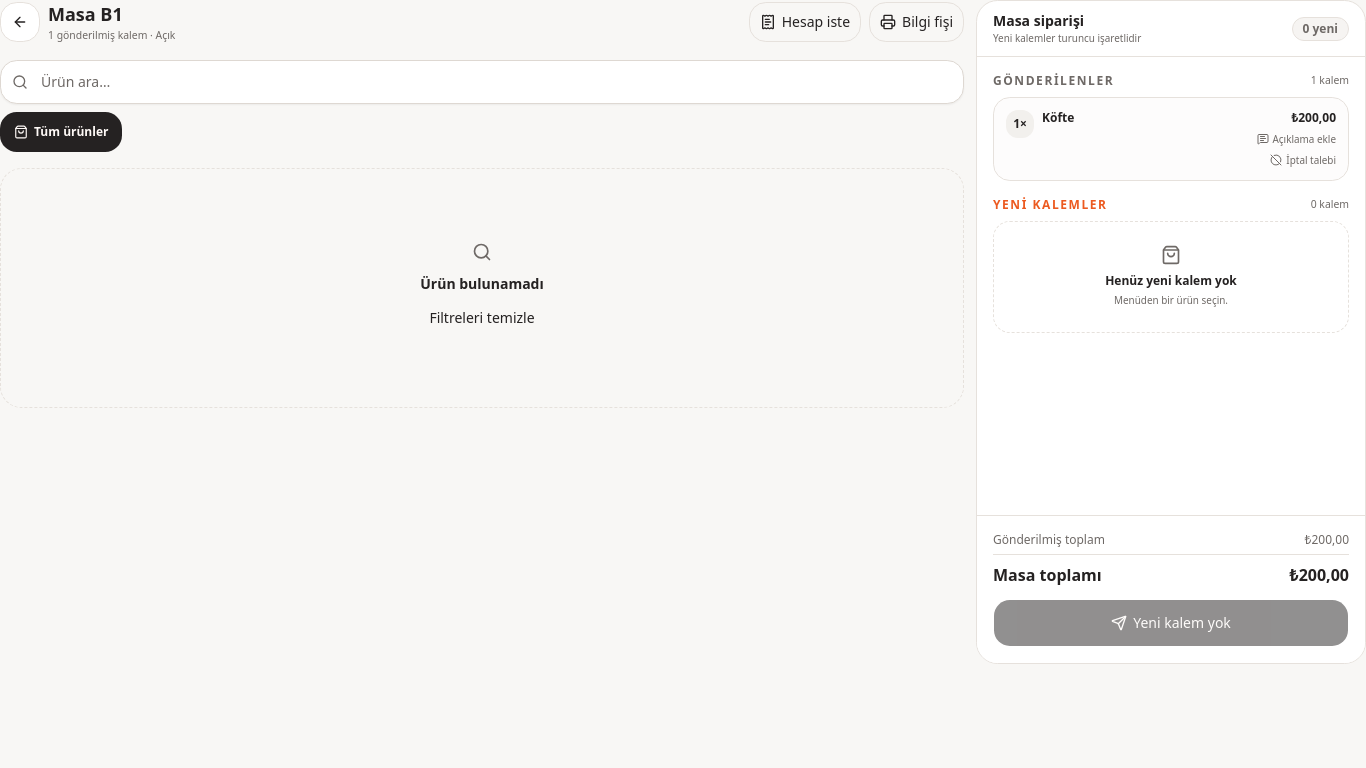
Scenario: OrderBuilder › saves a note on a previously submitted item through the waiter note endpoint
Click the button "Açıklama ekle". click: (1296, 139)
box: [1256, 132, 1336, 147]
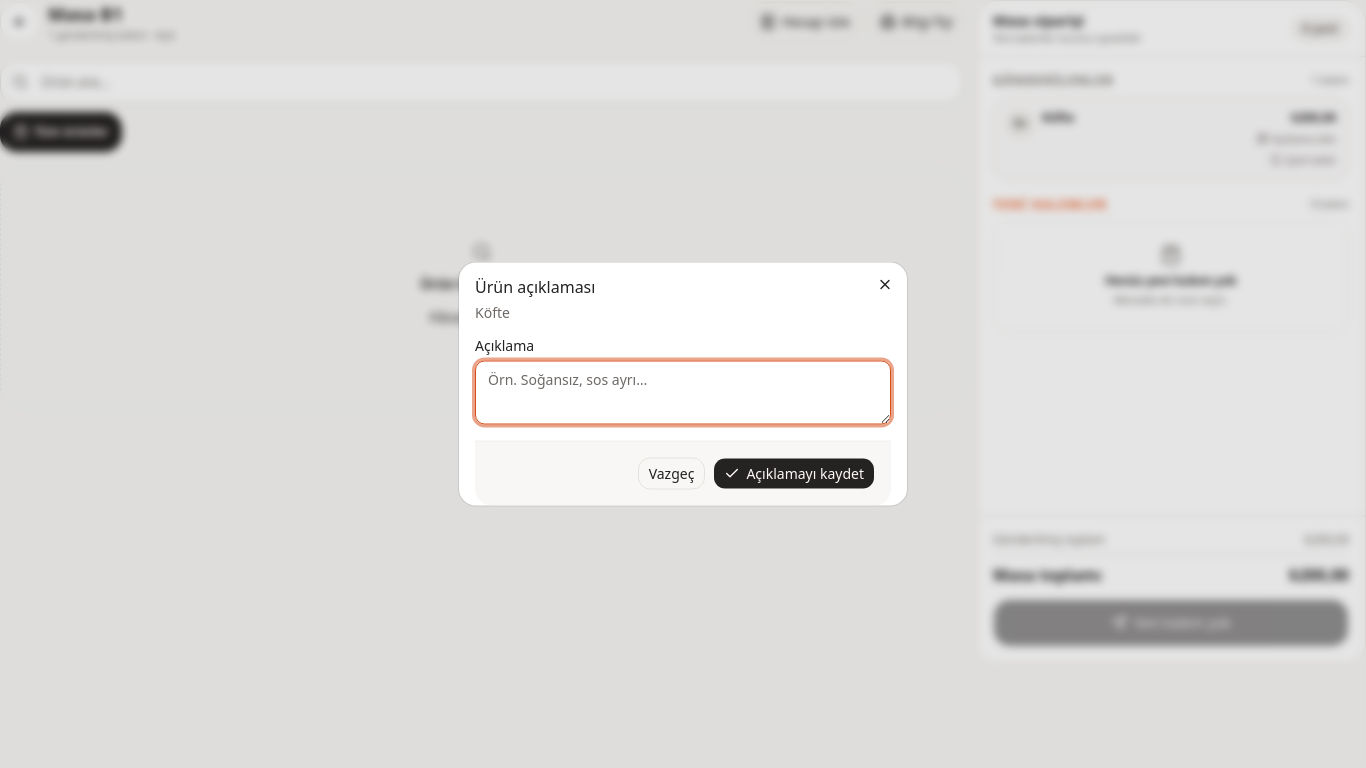
Type "Sos ayrı" into the text box labelled "Açıklama". click: (683, 392)
box: [475, 360, 891, 424]
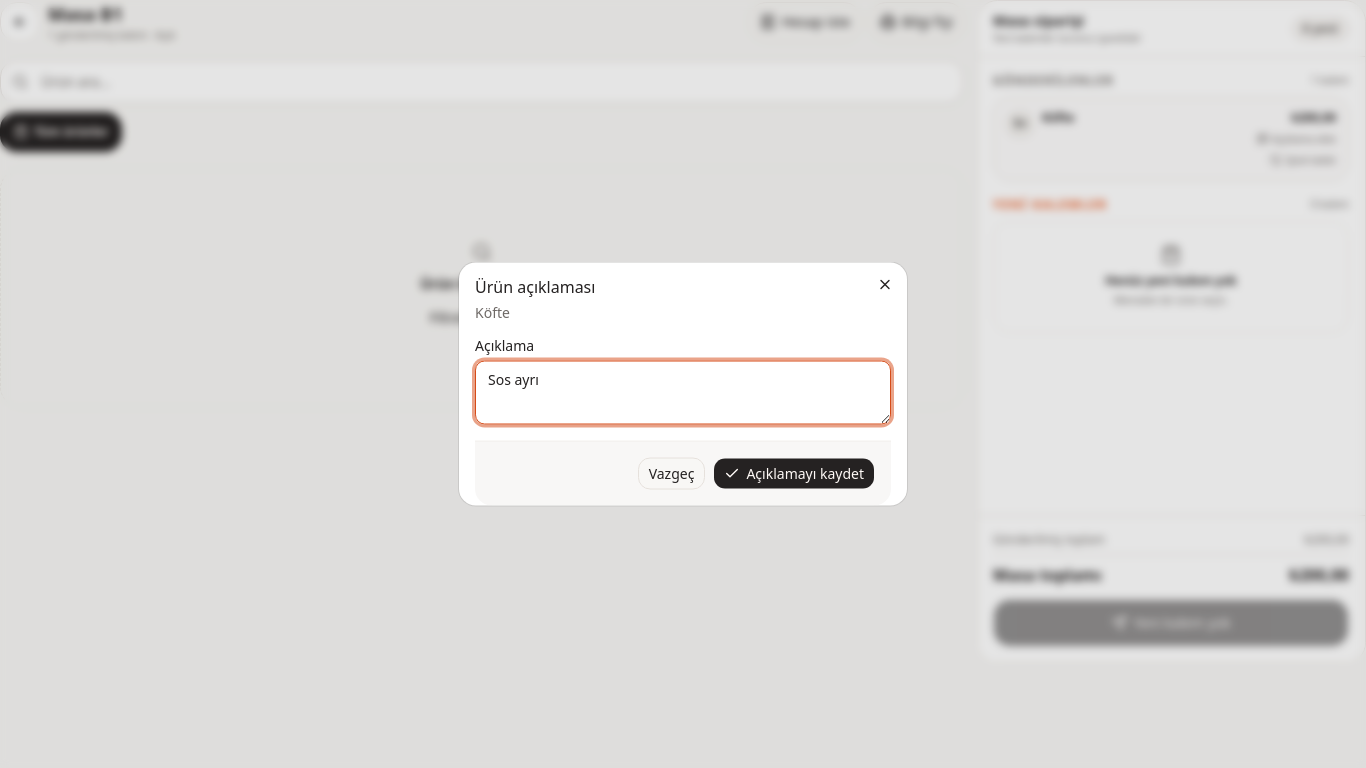
Click the button "Açıklamayı kaydet". click: (794, 474)
box: [713, 458, 875, 490]
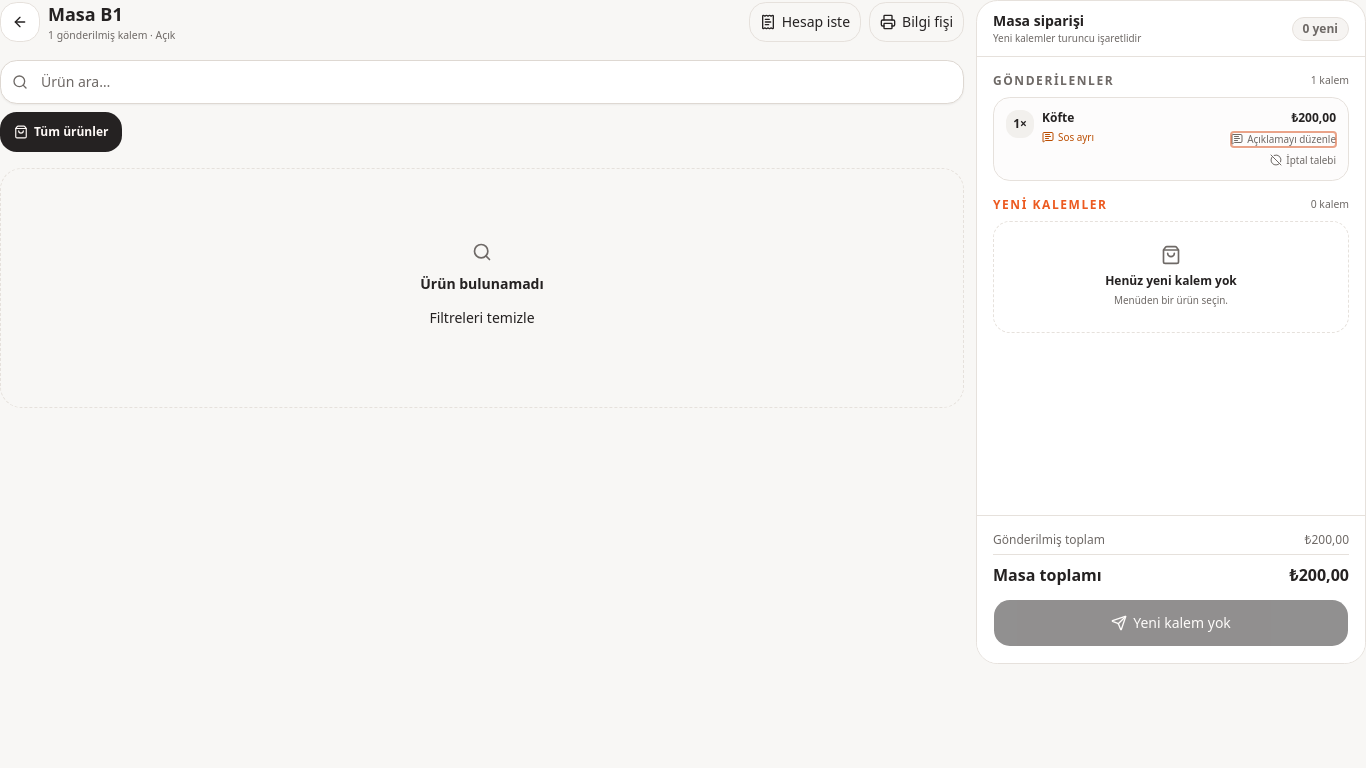
Check: the text "Sos ayrı" is shown, box [1042, 130, 1094, 144]
